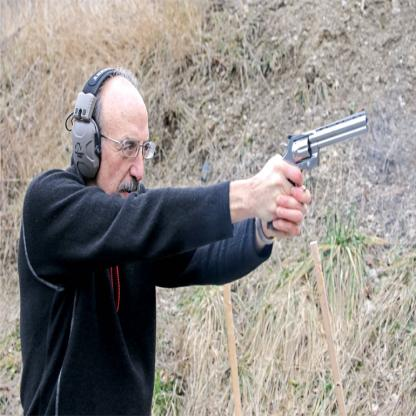handgun: (253, 109, 369, 233)
